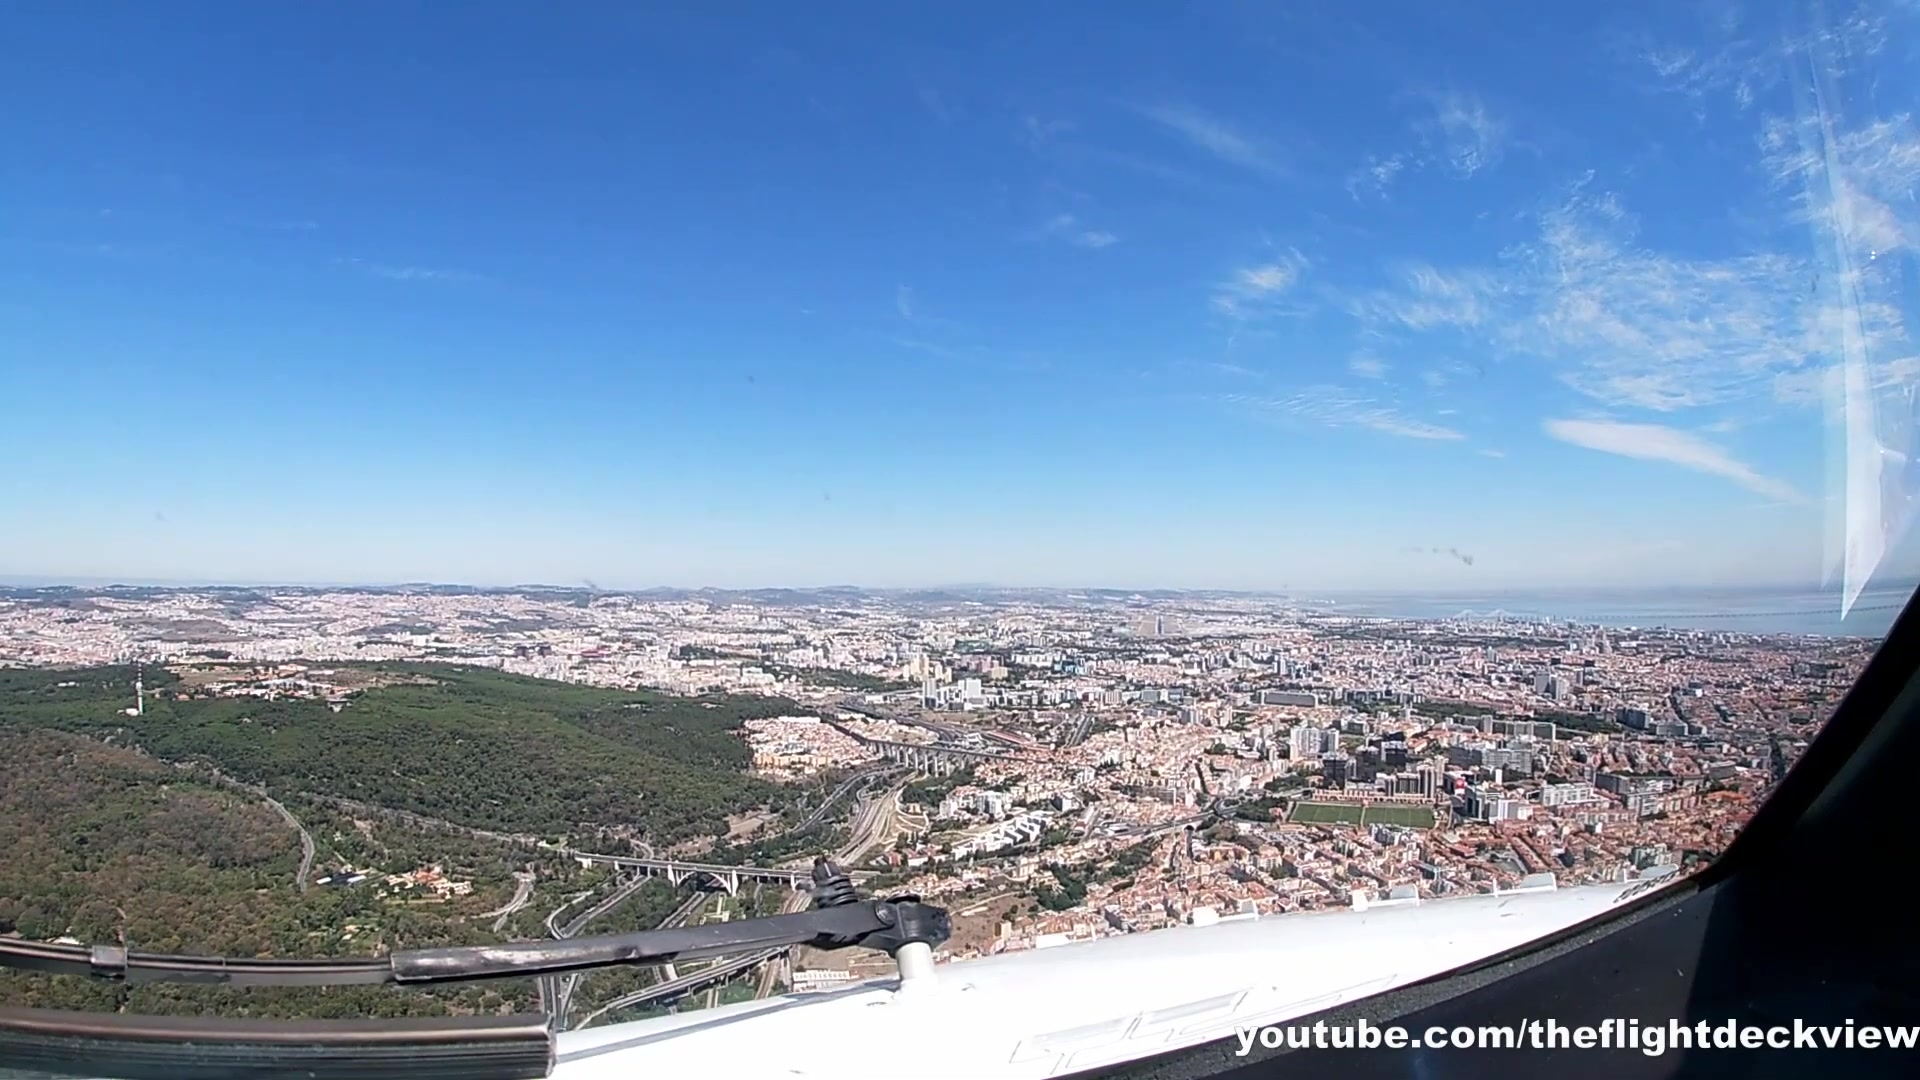runway: (1154, 616, 1166, 638)
